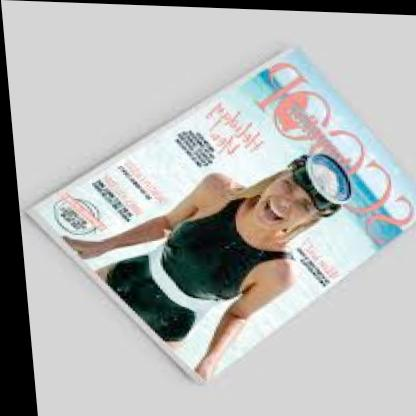Paper: (1, 20, 416, 386)
